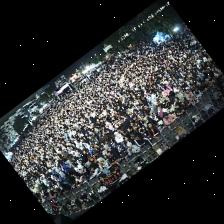person: (134, 133, 155, 152), (73, 163, 89, 179), (146, 123, 159, 140), (74, 153, 89, 167), (106, 151, 121, 165), (89, 150, 104, 163), (54, 175, 71, 186), (102, 129, 115, 142), (89, 163, 100, 178), (126, 143, 139, 155), (114, 132, 125, 146), (146, 91, 157, 105), (163, 113, 175, 125), (55, 169, 67, 181), (98, 132, 109, 145), (82, 149, 93, 162), (97, 158, 108, 171), (174, 103, 185, 116), (136, 122, 147, 135), (60, 183, 71, 195), (142, 117, 153, 129), (103, 145, 117, 154), (150, 111, 160, 123), (199, 81, 209, 93), (127, 127, 137, 139), (74, 175, 83, 188), (119, 145, 127, 159), (124, 135, 134, 146), (164, 96, 173, 108), (148, 101, 157, 113), (193, 87, 201, 100), (158, 105, 166, 118), (189, 95, 198, 106), (166, 104, 175, 115), (175, 90, 183, 102), (185, 88, 192, 101), (163, 84, 171, 95), (214, 68, 222, 79), (47, 189, 56, 198), (204, 79, 213, 88), (52, 181, 62, 189), (172, 97, 180, 107), (112, 143, 119, 153), (158, 93, 165, 103), (207, 75, 215, 83), (103, 140, 112, 147), (158, 121, 165, 130), (43, 193, 50, 201), (179, 103, 187, 110), (196, 76, 201, 87), (188, 80, 193, 90), (120, 128, 126, 136), (190, 83, 195, 92), (40, 195, 44, 203)
